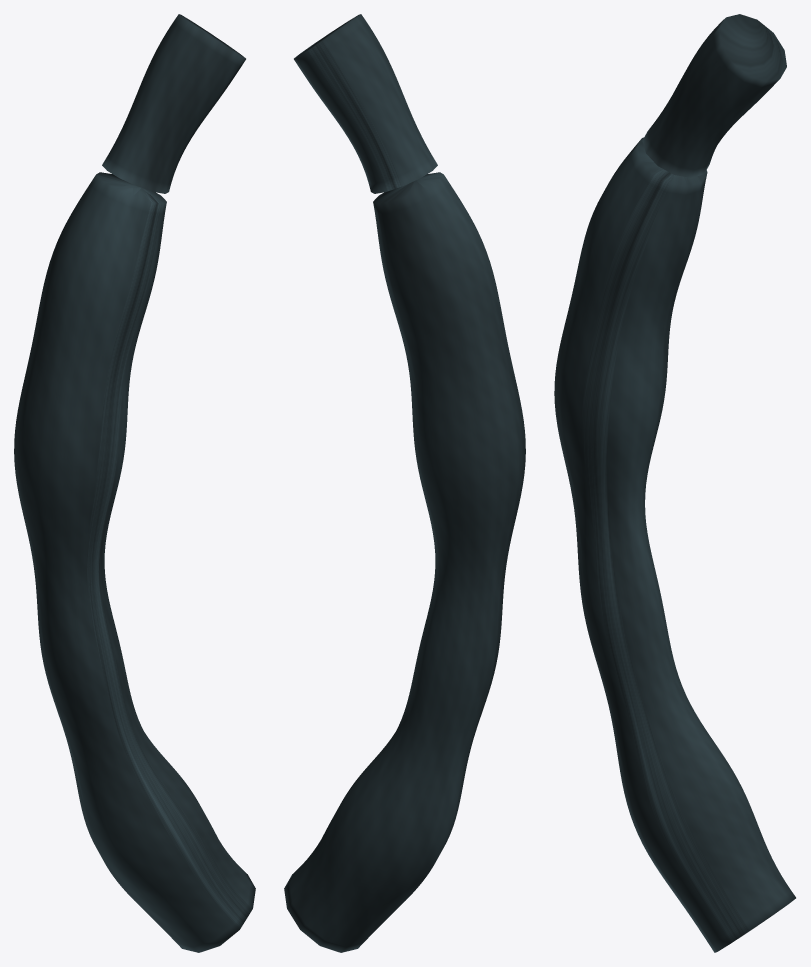
Rendered from SM_RelicArc_1.fbx.
3 renders of one model, left to right at view 1: azimuth 30°, elevation 25°; view 2: azimuth 150°, elevation 25°; view 3: azimuth 330°, elevation 25°, orthographic.
Visible parts, largest first — view 1: SM_RelicArc_1.001; view 2: SM_RelicArc_1.001; view 3: SM_RelicArc_1.001.
Boxes of the visible parts, left/top/right/bottom form: SM_RelicArc_1.001: left=14, top=14, right=255, bottom=952; SM_RelicArc_1.001: left=284, top=14, right=525, bottom=952; SM_RelicArc_1.001: left=554, top=14, right=795, bottom=952.
Bounding box in the file's own units: 663 × 292 × 2599.
